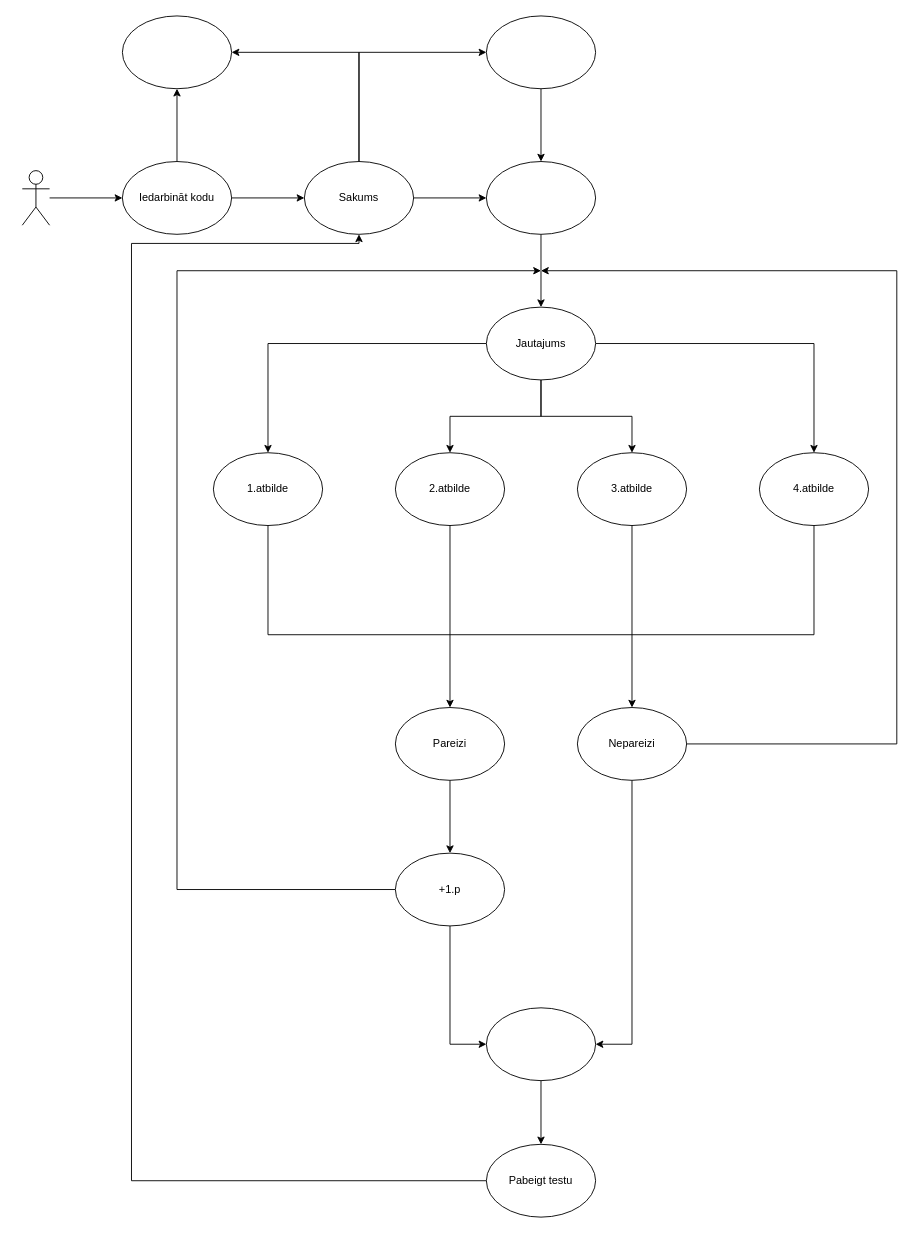
Some shapes in this 920 by 1233 pixel diagram are drawn without their labels. The shapes that lost their labels are listed below. From the top down, each one's centre as x and y in pixels, then its label:
At (x=176, y=52): "Apturēt".
At (x=540, y=52): "Testa noteikumi,tēma utt.".
At (x=35, y=197): "Lietotajs".
At (x=540, y=197): "Sākt pildīt testu".
At (x=540, y=1044): "Testa rezultati".
